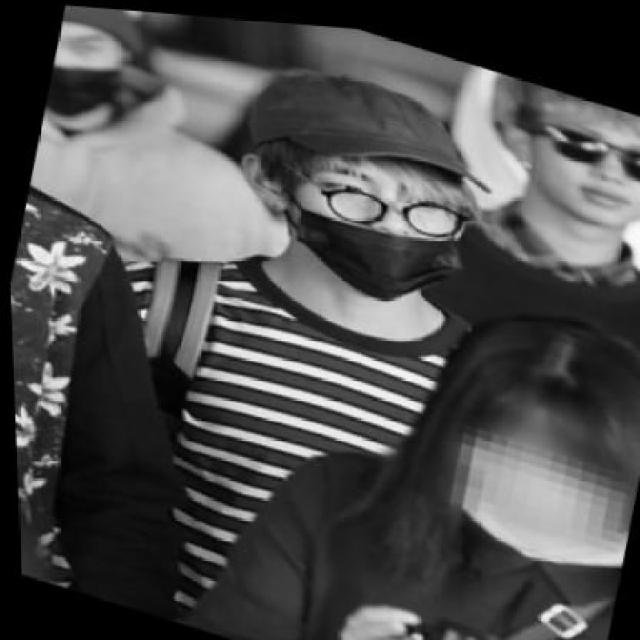hat: (227, 34, 511, 211)
